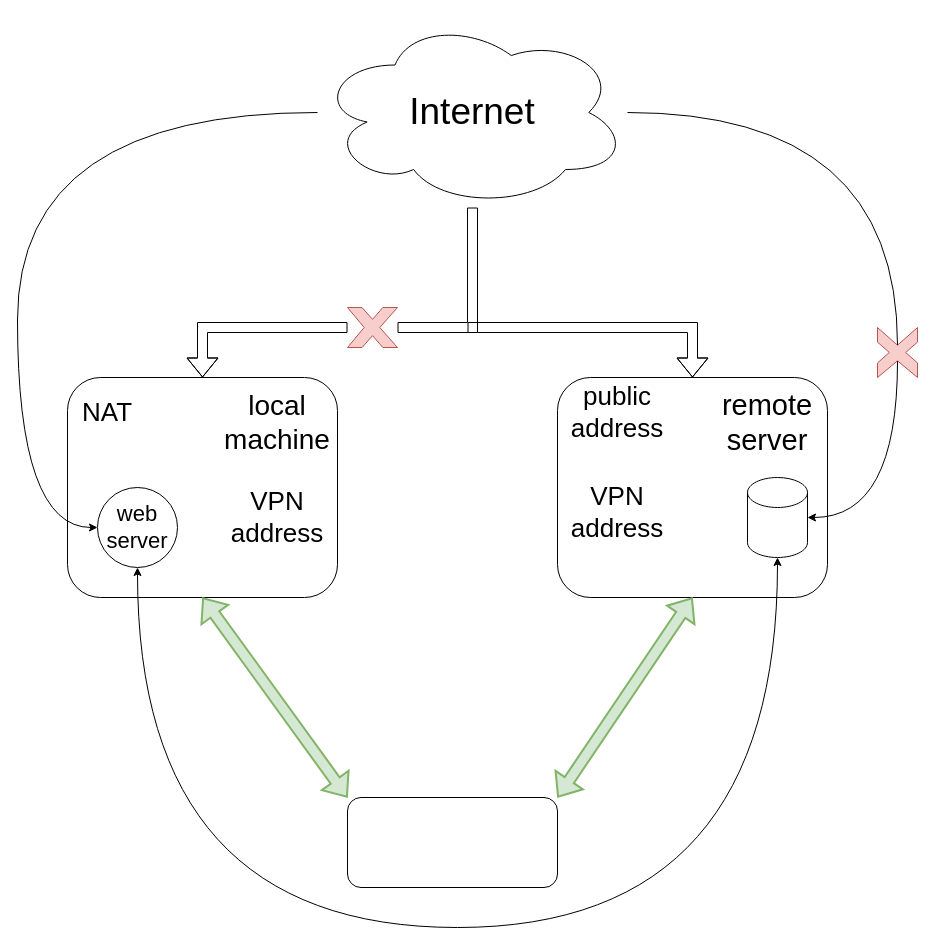
Some shapes in this 935 by 945 pixel diagram are drawn without their labels. Here are the shapes that lost their labels. From the top down, the centre of each, then its label:
At (x=777, y=517): "DB".
At (x=452, y=842): "VPN server".
